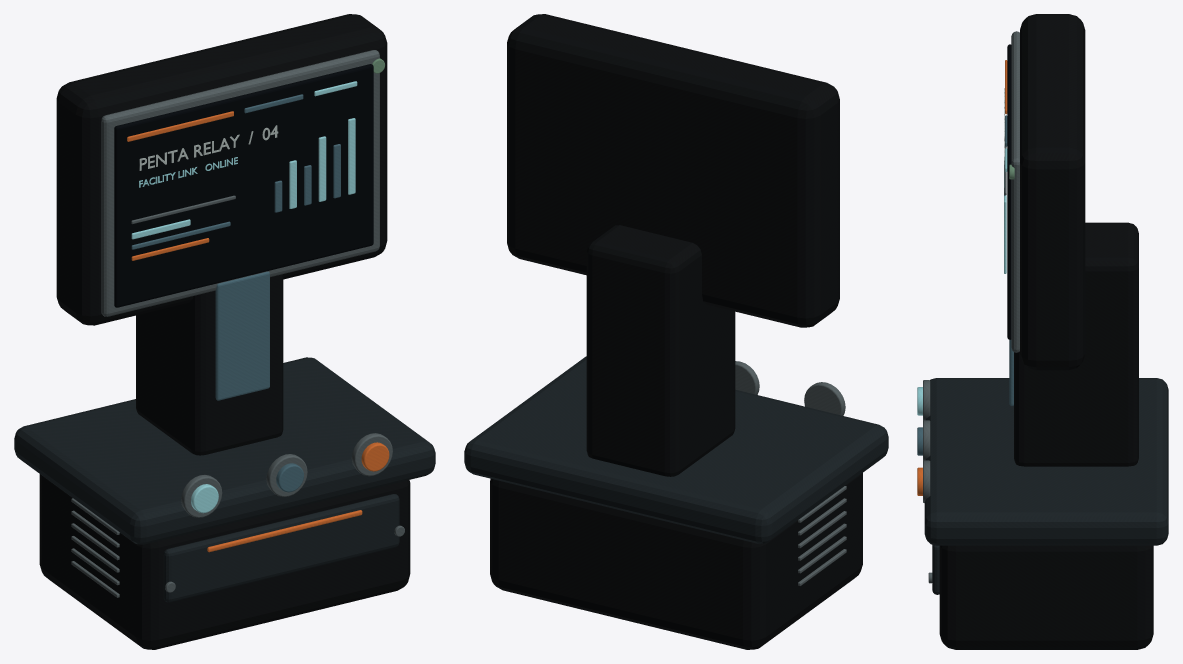
File: PentagolandRelayTerminal.glb
3 renders of one model, left to right at view 1: azimuth 30°, elevation 25°; view 2: azimuth 150°, elevation 25°; view 3: azimuth 270°, elevation 25°, orthographic. The views are drawn at different scales.
Visible parts, largest first — view 1: PentagolandRelayTerminal_Mesh; view 2: PentagolandRelayTerminal_Mesh; view 3: PentagolandRelayTerminal_Mesh.
Boxes of the visible parts, x1,y1,x2,y2 form: PentagolandRelayTerminal_Mesh: [14, 14, 435, 649]; PentagolandRelayTerminal_Mesh: [464, 14, 888, 649]; PentagolandRelayTerminal_Mesh: [917, 14, 1168, 649].
Size of the model in its own units: 1.16 by 1.89 by 0.8445.
Materials: 9 (9 with a texture image).
